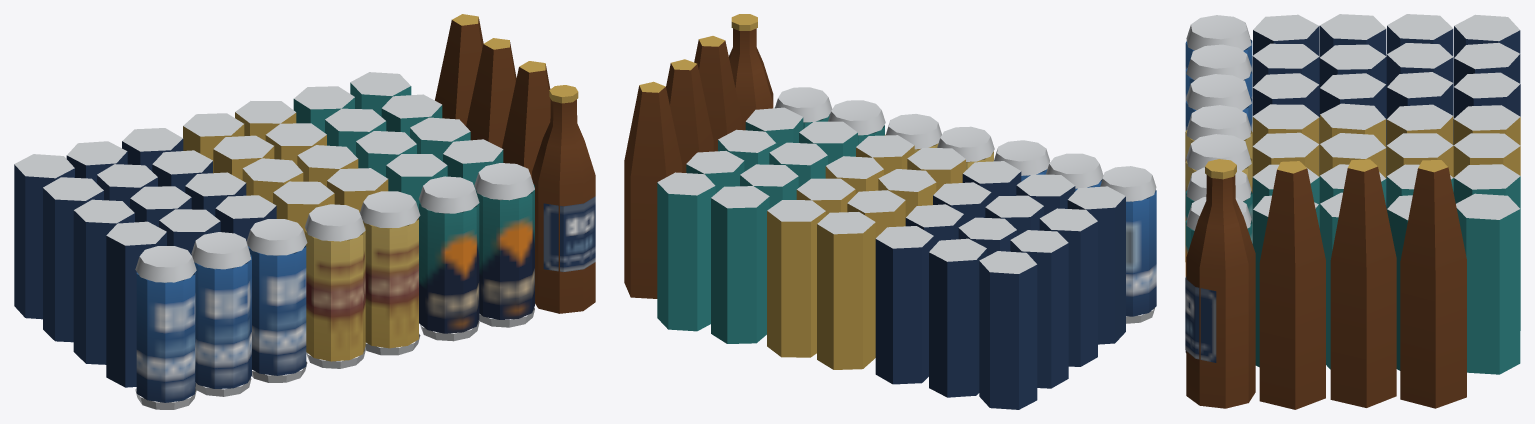
The model's file is SC_Prod_Row_Beer_600.gltf.
The picture shows the model from 3 angles, left to right: view 1: azimuth 30°, elevation 25°; view 2: azimuth 150°, elevation 25°; view 3: azimuth 270°, elevation 25°; orthographic projection. The views are drawn at different scales.
Parts seen in each view (by area): view 1: SC_Prod_Row_Beer_600; view 2: SC_Prod_Row_Beer_600; view 3: SC_Prod_Row_Beer_600.
Boxes of the visible parts, x1,y1,x2,y2 form: SC_Prod_Row_Beer_600: (14, 14, 595, 409); SC_Prod_Row_Beer_600: (624, 14, 1156, 409); SC_Prod_Row_Beer_600: (1185, 14, 1520, 409).
Size of the model in its own units: 0.5642 by 0.248 by 0.3302.
Materials: 2 (2 with a texture image).
